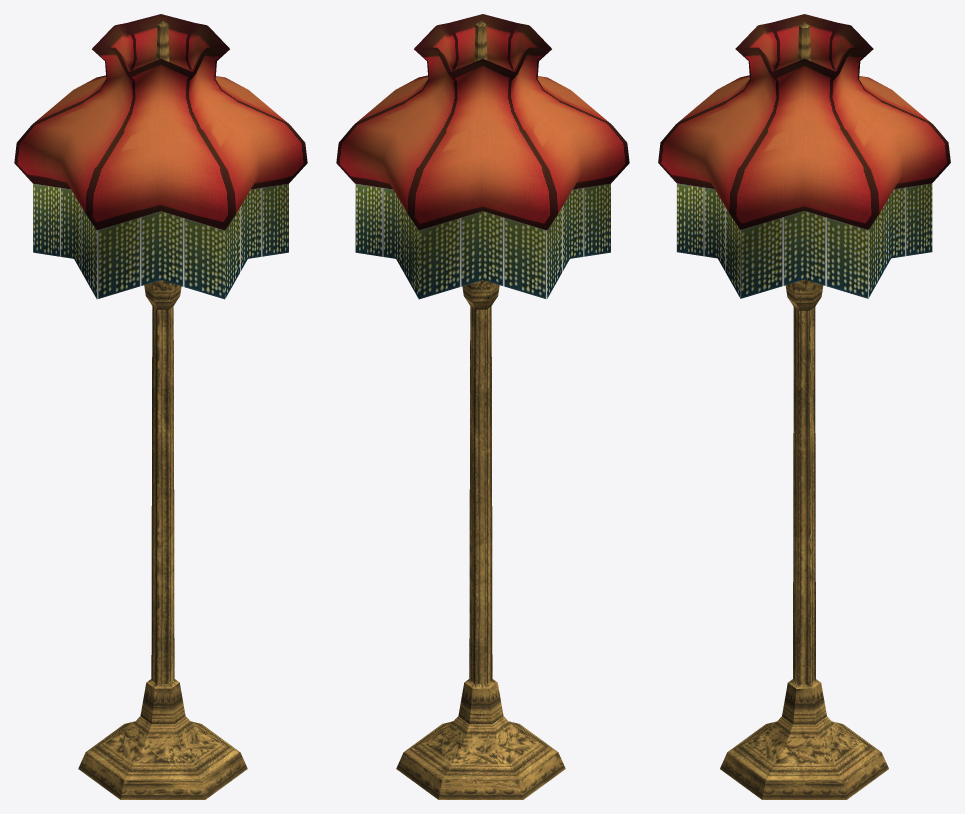
The model's file is FloorLamp1.fbx.
3 views of the same model, side by side, from view 1: azimuth 30°, elevation 25°; view 2: azimuth 150°, elevation 25°; view 3: azimuth 270°, elevation 25° (orthographic).
Parts seen in each view (by area): view 1: FloorLamp1; view 2: FloorLamp1; view 3: FloorLamp1.
Part boxes in pixels (x1=…): FloorLamp1: x1=14, y1=14, x2=307, y2=799; FloorLamp1: x1=336, y1=14, x2=629, y2=799; FloorLamp1: x1=658, y1=14, x2=950, y2=799.
Size of the model in its own units: 252 by 820 by 291.
